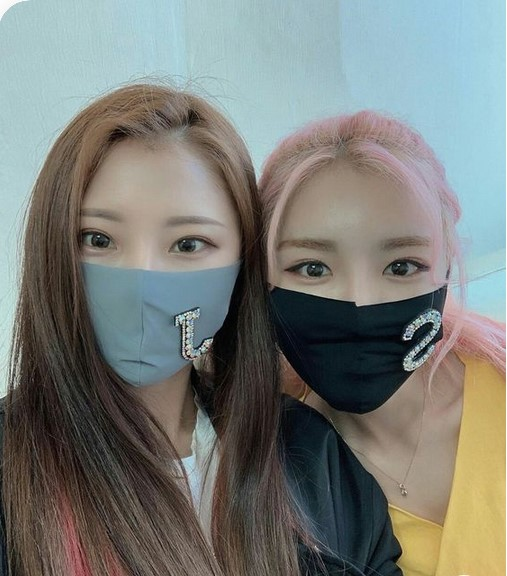face_with_mask: (43, 93, 252, 397), (258, 125, 449, 409)
